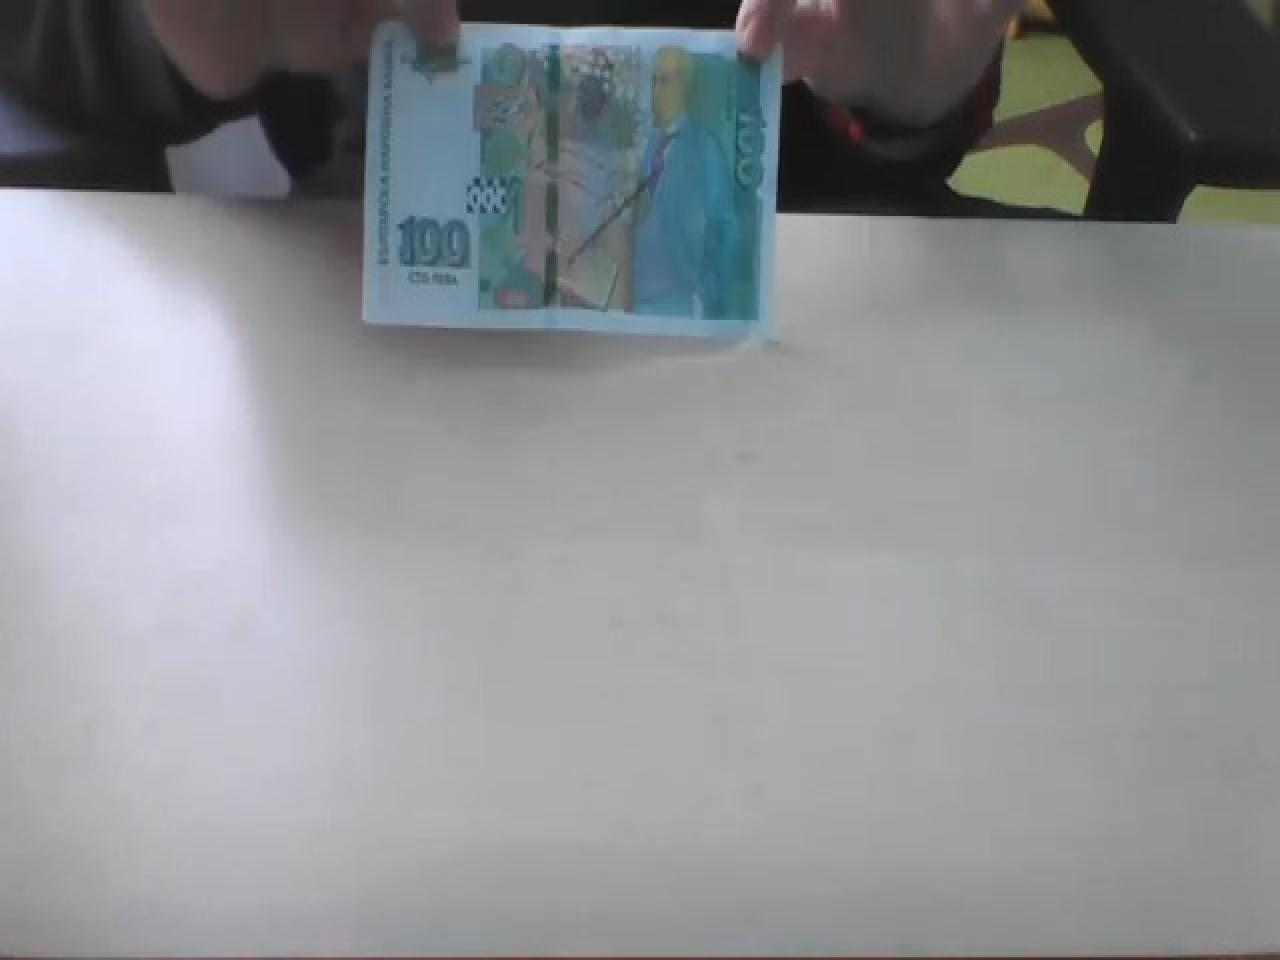100leva: (360, 19, 780, 341), (394, 211, 470, 269)
